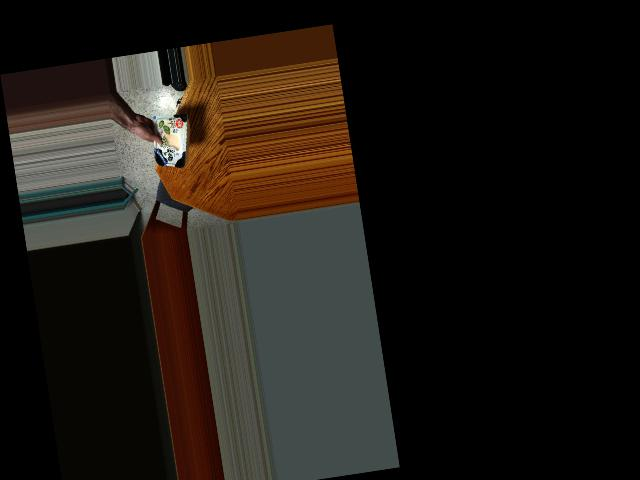cheese: (147, 112, 195, 171)
